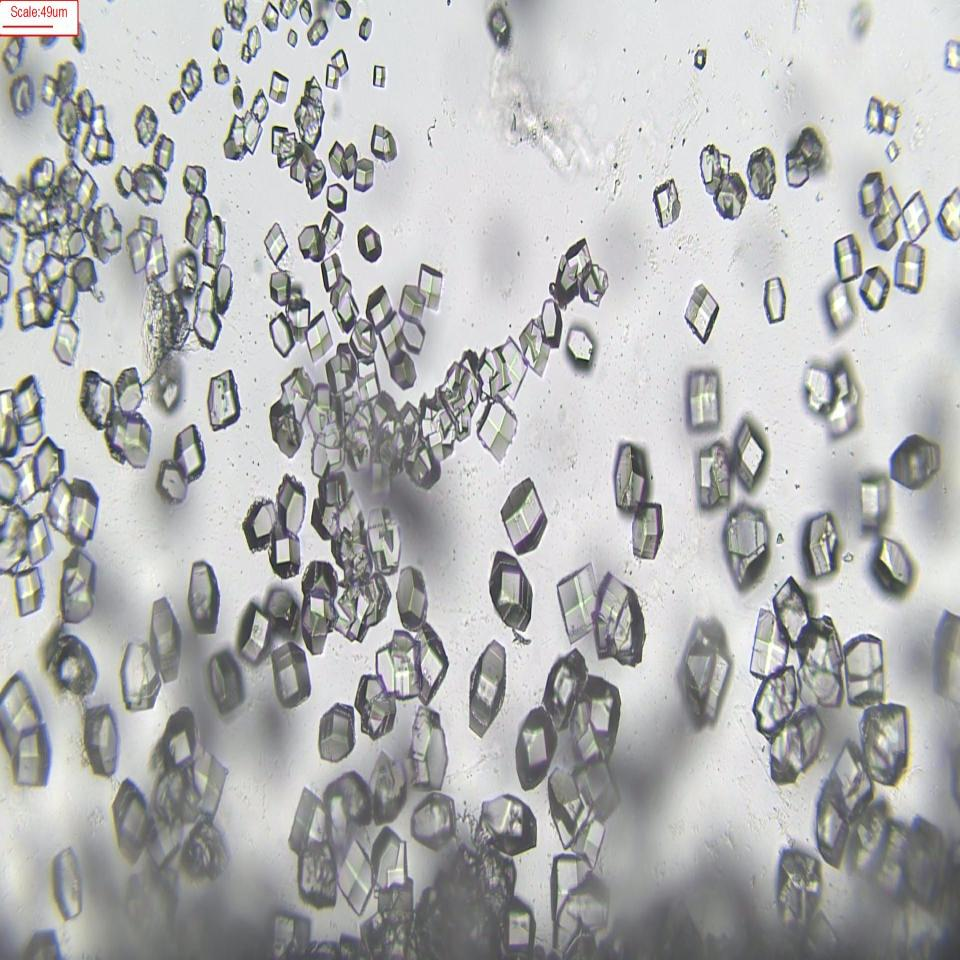crystal: (673, 616, 735, 734), (595, 570, 644, 664), (406, 704, 453, 794), (42, 633, 103, 702), (488, 549, 536, 633), (496, 475, 549, 549), (467, 638, 503, 738), (842, 628, 890, 702), (147, 599, 185, 685), (887, 432, 942, 491), (514, 704, 556, 780), (477, 391, 520, 464), (868, 536, 922, 593), (271, 636, 312, 710), (118, 642, 163, 709), (556, 563, 597, 636), (612, 440, 651, 514), (806, 507, 844, 580), (734, 420, 772, 492), (50, 845, 86, 921), (188, 556, 223, 634), (79, 709, 120, 775), (631, 499, 666, 574), (686, 362, 722, 434), (696, 438, 732, 510), (206, 366, 243, 435), (317, 697, 356, 762), (210, 645, 246, 715), (237, 597, 272, 667), (682, 279, 719, 341), (277, 475, 311, 540), (746, 145, 779, 203), (566, 318, 600, 374), (13, 561, 46, 617), (894, 239, 926, 295), (393, 567, 428, 618), (269, 528, 302, 582), (859, 260, 892, 314), (242, 494, 277, 544), (651, 176, 681, 234), (858, 472, 885, 536), (174, 424, 206, 478), (715, 169, 747, 223), (824, 280, 855, 332), (265, 312, 297, 362), (304, 309, 334, 362), (763, 267, 786, 334), (832, 231, 863, 280), (296, 215, 324, 268), (55, 313, 81, 367), (365, 288, 395, 332), (903, 190, 928, 240), (264, 222, 291, 266), (489, 3, 512, 52), (354, 159, 382, 199), (539, 300, 563, 346), (356, 221, 384, 260), (154, 132, 177, 174), (269, 67, 288, 104), (371, 58, 388, 94), (326, 64, 340, 92)
not_crystal: (0, 672, 52, 791), (370, 629, 449, 704), (551, 242, 607, 305), (101, 409, 155, 465), (83, 103, 117, 166), (88, 208, 123, 258), (478, 350, 510, 401), (135, 103, 158, 149)
